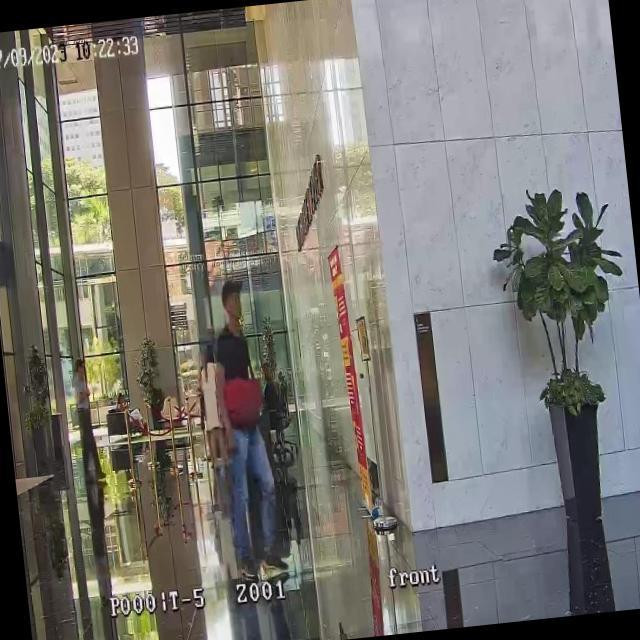person: (204, 277, 292, 586), (198, 345, 232, 474), (70, 356, 102, 476), (260, 362, 281, 425)
